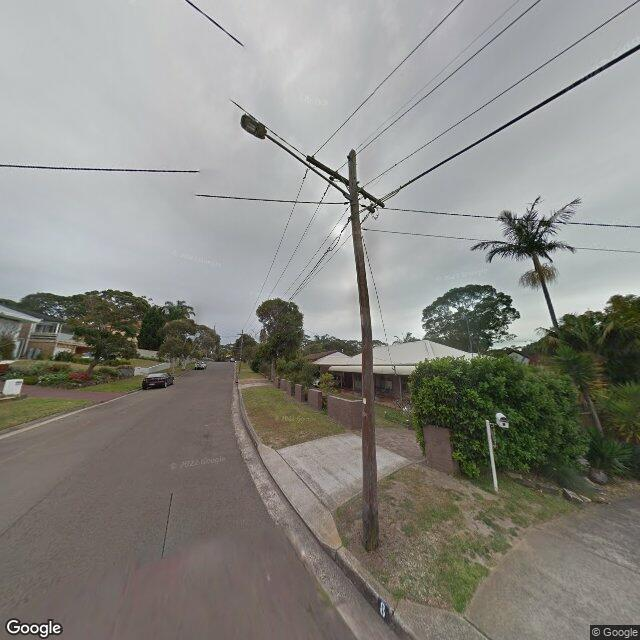crossarm: (302, 152, 385, 213), (236, 333, 247, 336)
streetlight: (240, 113, 354, 203)
timber-pole: (347, 148, 379, 552), (242, 329, 244, 361)
